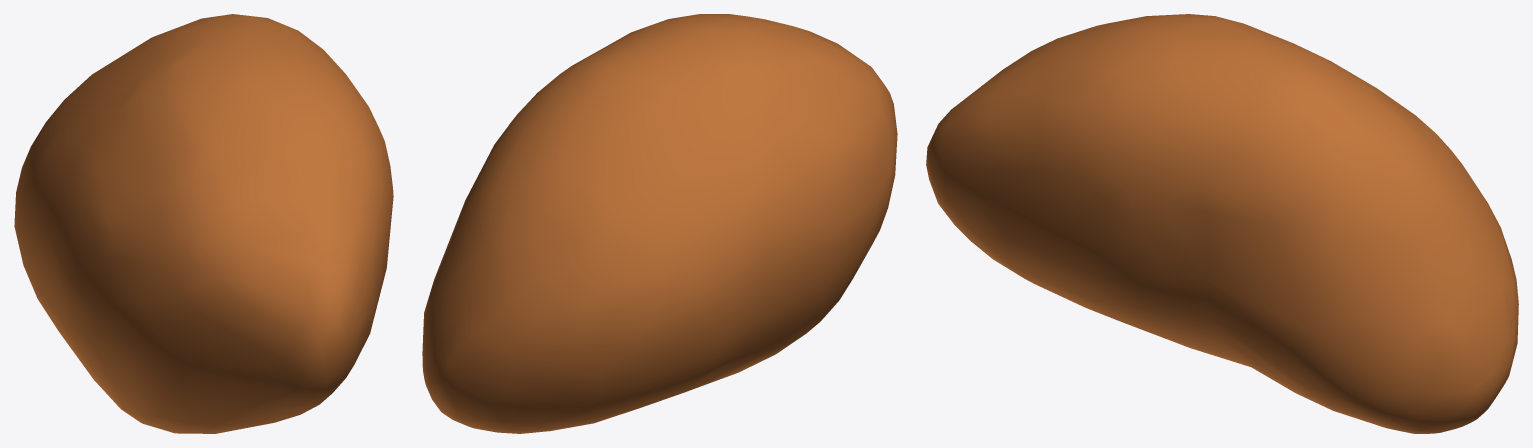
File: Thalamus_left.glb
3 renders of one model, left to right at view 1: azimuth 30°, elevation 25°; view 2: azimuth 150°, elevation 25°; view 3: azimuth 270°, elevation 25°, orthographic. The views are drawn at different scales.
Visible parts, largest first — view 1: Thalamus.l_grp1.025; view 2: Thalamus.l_grp1.025; view 3: Thalamus.l_grp1.025.
Part boxes in pixels (x1=…): Thalamus.l_grp1.025: x1=14, y1=14, x2=393, y2=433; Thalamus.l_grp1.025: x1=422, y1=14, x2=897, y2=433; Thalamus.l_grp1.025: x1=926, y1=14, x2=1518, y2=433.
Bounding box in the file's own units: 0.0227 × 0.0229 × 0.0354.
